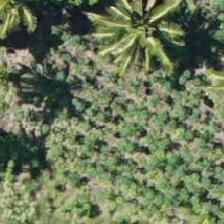coconut_tree: (92, 0, 182, 72)
